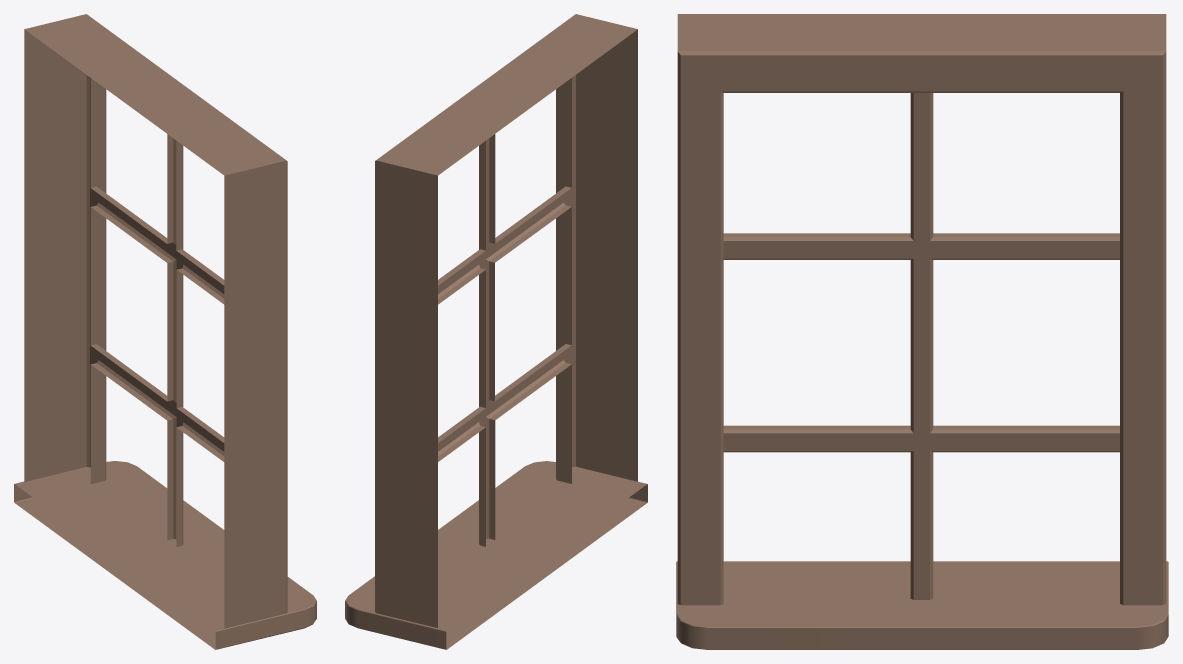
File: Window.fbx
3 renders of one model, left to right at view 1: azimuth 30°, elevation 25°; view 2: azimuth 150°, elevation 25°; view 3: azimuth 270°, elevation 25°, orthographic. The views are drawn at different scales.
Parts seen in each view (by area): view 1: Window; view 2: Window; view 3: Window.
Boxes of the visible parts, x1=… form: Window: x1=14, y1=14, x2=316, y2=649; Window: x1=345, y1=14, x2=647, y2=649; Window: x1=676, y1=14, x2=1168, y2=649.
Size of the model in its own units: 66.75 by 272 by 211.
